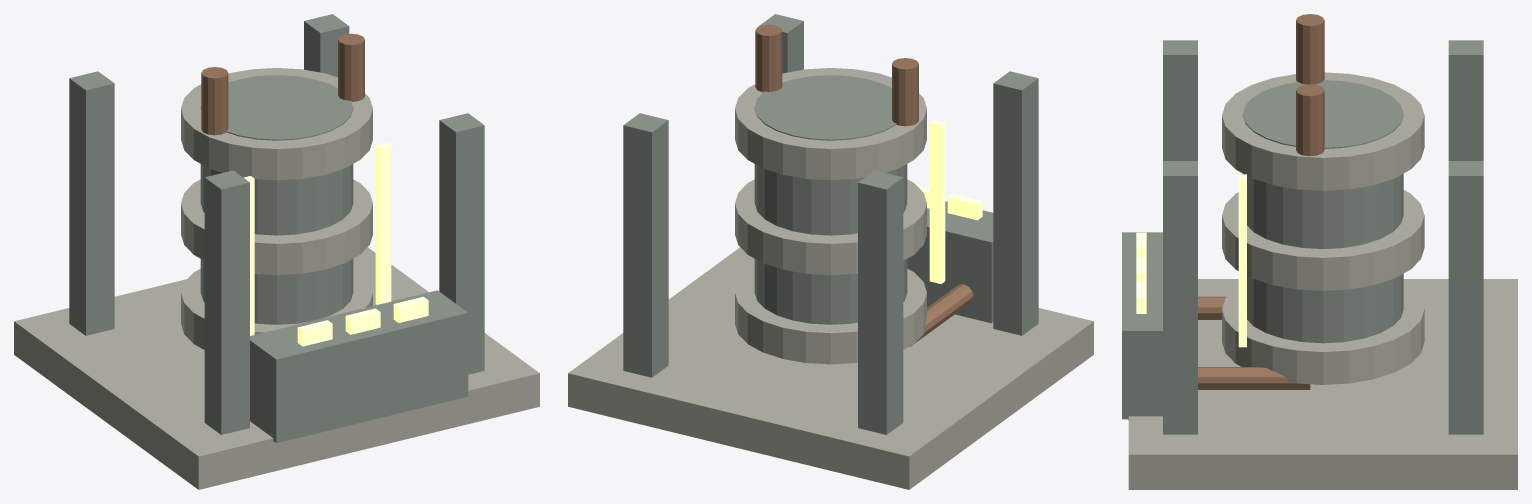
File: shelter_reactor.glb
3 renders of one model, left to right at view 1: azimuth 30°, elevation 25°; view 2: azimuth 150°, elevation 25°; view 3: azimuth 270°, elevation 25°, orthographic. The views are drawn at different scales.
Visible parts, largest first — view 1: reactor footing, control bench, shielded reactor vessel, shield pillar.001, shield pillar, shield pillar.002, containment ring.002, containment ring.001, observation panel.001, containment ring, shield pillar.003, coolant pipe (+5 smaller); view 2: reactor footing, shielded reactor vessel, shield pillar, shield pillar.003, shield pillar.001, containment ring.002, containment ring.001, containment ring, control bench, observation panel, coolant pipe.001, coolant pipe (+3 smaller); view 3: reactor footing, shielded reactor vessel, containment ring.002, shield pillar.003, shield pillar.002, containment ring.001, containment ring, control bench, shield pillar.001, shield pillar, coolant return.001, coolant pipe.001 (+3 smaller).
Part boxes in pixels (left/top/right/bottom): reactor footing: left=14, top=247, right=539, bottom=489; control bench: left=250, top=290, right=468, bottom=443; shielded reactor vessel: left=200, top=75, right=353, bottom=324; shield pillar.001: left=69, top=71, right=114, bottom=335; shield pillar: left=204, top=170, right=249, bottom=434; shield pillar.002: left=439, top=113, right=484, bottom=374; containment ring.002: left=181, top=68, right=372, bottom=180; containment ring.001: left=181, top=179, right=372, bottom=274; observation panel.001: left=375, top=142, right=391, bottom=304; containment ring: left=181, top=268, right=372, bottom=349; shield pillar.003: left=304, top=14, right=349, bottom=77; coolant pipe: left=201, top=67, right=228, bottom=135; reactor footing: left=568, top=247, right=1093, bottom=489; shielded reactor vessel: left=754, top=75, right=907, bottom=324; shield pillar: left=993, top=71, right=1038, bottom=335; shield pillar.003: left=623, top=113, right=668, bottom=377; shield pillar.001: left=858, top=170, right=903, bottom=434; containment ring.002: left=735, top=68, right=926, bottom=180; containment ring.001: left=735, top=179, right=926, bottom=274; containment ring: left=735, top=268, right=926, bottom=364; control bench: left=907, top=201, right=993, bottom=323; observation panel: left=929, top=120, right=945, bottom=283; coolant pipe.001: left=755, top=24, right=782, bottom=92; coolant pipe: left=892, top=58, right=918, bottom=126; reactor footing: left=1128, top=279, right=1517, bottom=489; shielded reactor vessel: left=1242, top=80, right=1403, bottom=343; containment ring.002: left=1222, top=72, right=1424, bottom=190; shield pillar.003: left=1448, top=161, right=1483, bottom=434; shield pillar.002: left=1163, top=161, right=1197, bottom=434; containment ring.001: left=1222, top=190, right=1424, bottom=290; containment ring: left=1222, top=284, right=1424, bottom=384; control bench: left=1122, top=232, right=1162, bottom=419; shield pillar.001: left=1448, top=40, right=1483, bottom=160; shield pillar: left=1163, top=40, right=1197, bottom=160; coolant return.001: left=1198, top=367, right=1310, bottom=389; coolant pipe.001: left=1296, top=84, right=1324, bottom=156.
Size of the model in its own units: 3.2 by 2.95 by 3.05.
